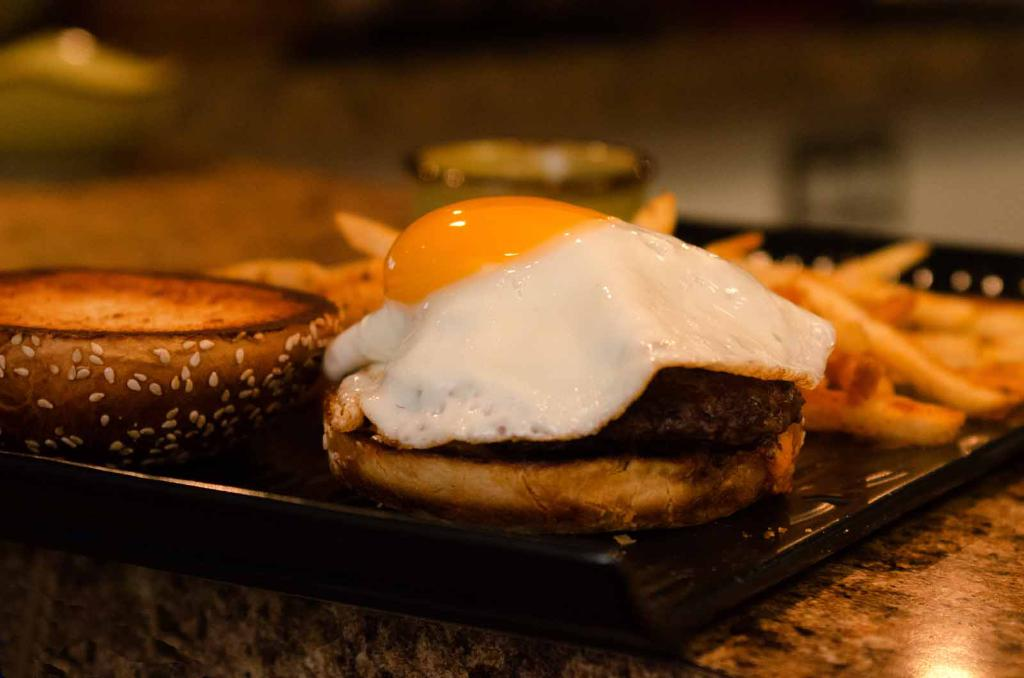French fries: (779, 228, 1012, 460)
